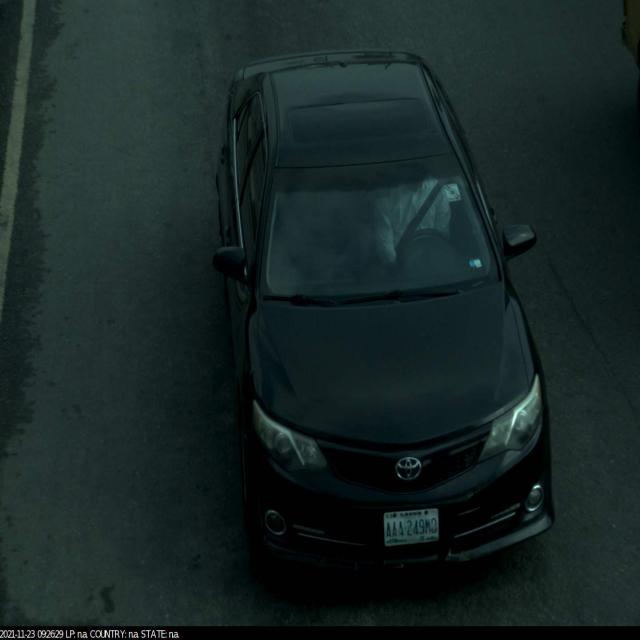windshield: (247, 152, 513, 324)
